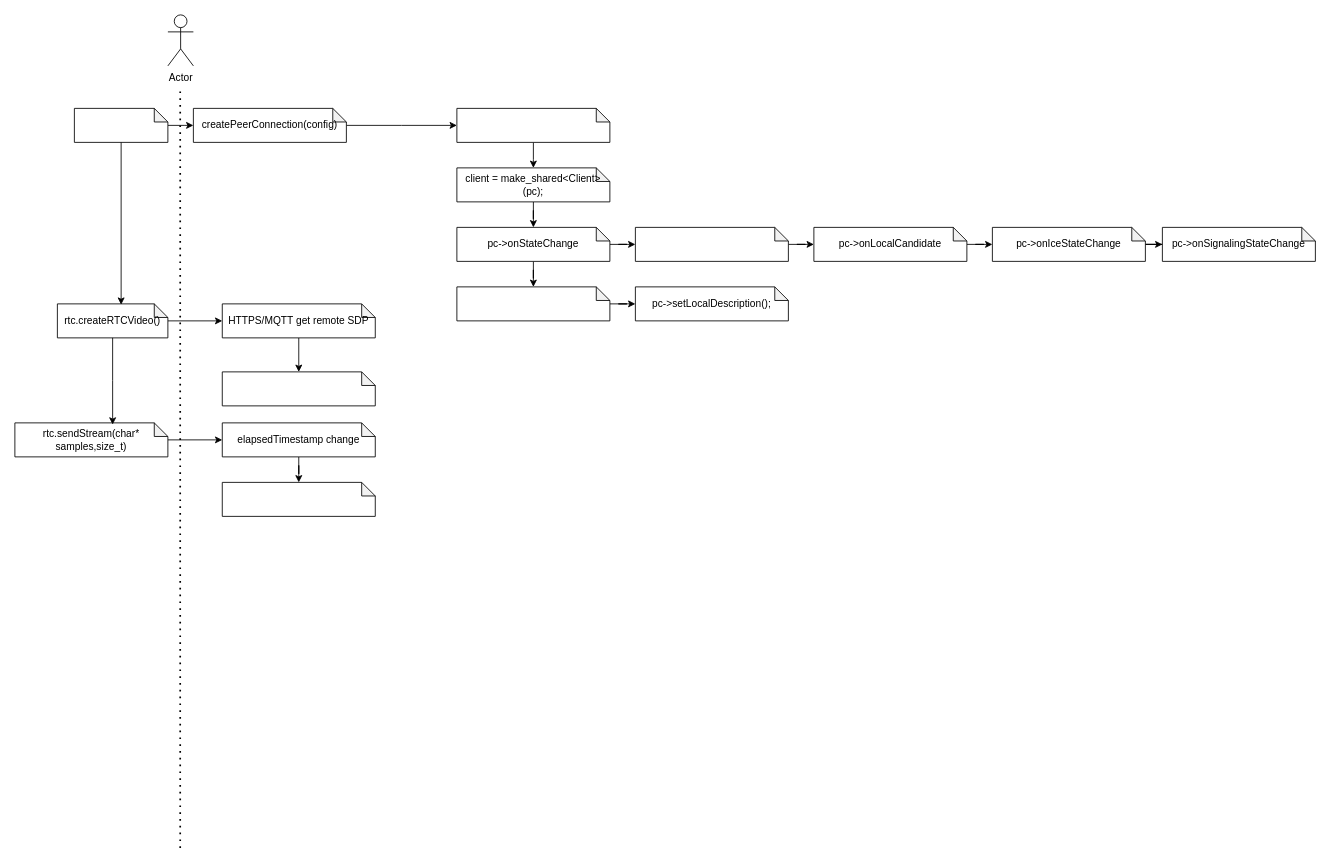
Image size: 1330x864. Some labels were removed from this diagram. The box of each missing label's shape, as (x1, y1, x2, y2) in pixels:
client->peerConnection->setRemoteDescription(answer);: (221, 371, 375, 406)
client->video = addVideo(pc, client): (456, 286, 610, 321)
pc = make_shared<PeerConnection>(config): (456, 108, 610, 142)
pc->onGatheringStateChange: (635, 227, 788, 261)
rtc = ADRTC(): (74, 108, 168, 142)
trackData->track->send(sample);: (221, 482, 375, 516)
